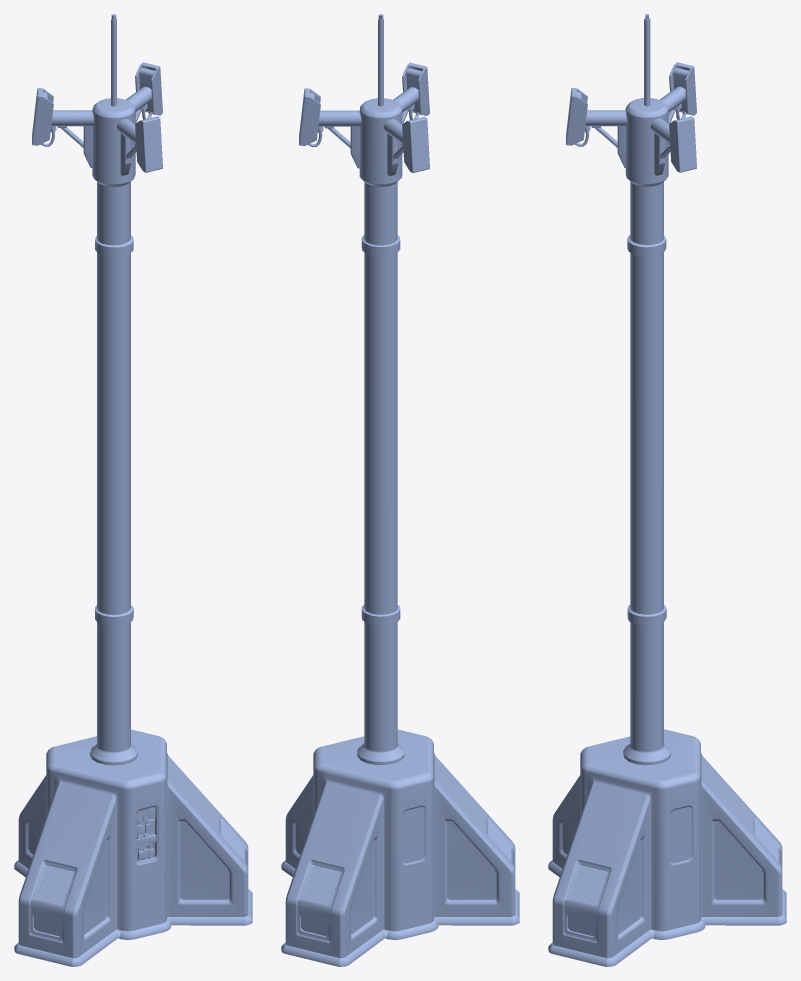
The model's file is WeatherTower.fbx.
3 renders of one model, left to right at view 1: azimuth 30°, elevation 25°; view 2: azimuth 150°, elevation 25°; view 3: azimuth 270°, elevation 25°, orthographic.
Parts seen in each view (by area): view 1: Stormtower LOD 0.001; view 2: Stormtower LOD 0.001; view 3: Stormtower LOD 0.001.
Part boxes in pixels (x1,y1,x2,y2): Stormtower LOD 0.001: (14, 14, 252, 966); Stormtower LOD 0.001: (281, 14, 519, 966); Stormtower LOD 0.001: (548, 14, 786, 966).
Bounding box in the file's own units: 514 × 1861 × 449.
